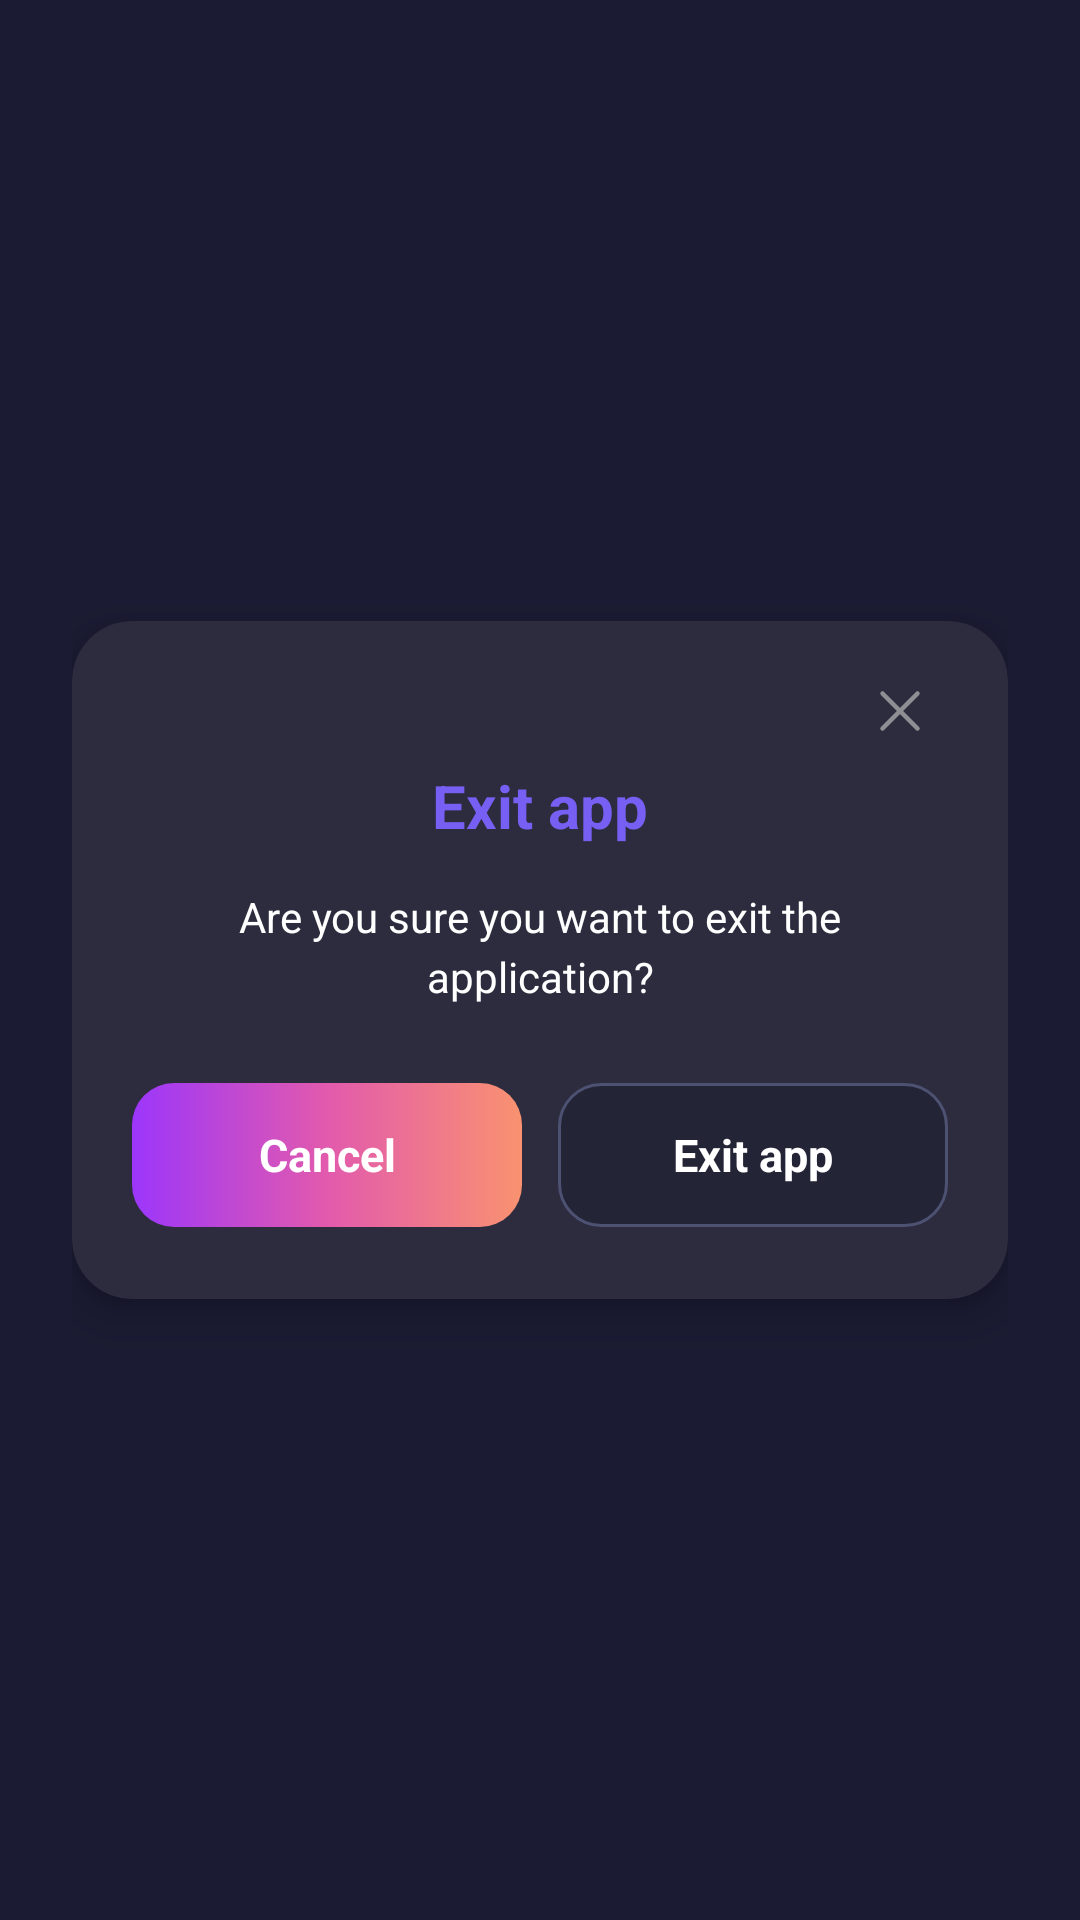

Icon click points for this 1080×1920 phone screenshot, format point (x, y):
close: point (900, 711)
